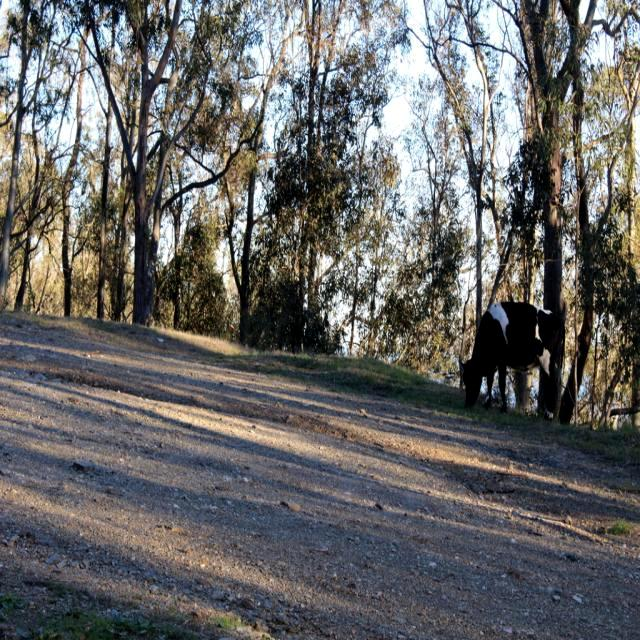COW: (460, 302, 562, 417)
